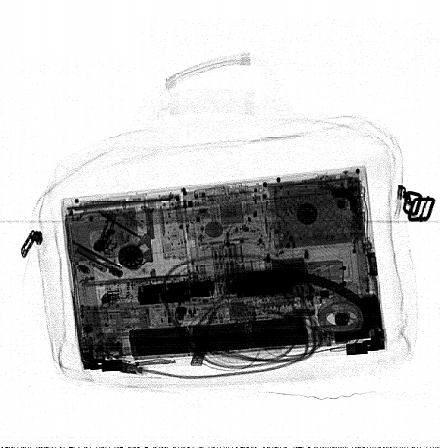Baton: (108, 259, 346, 310)
